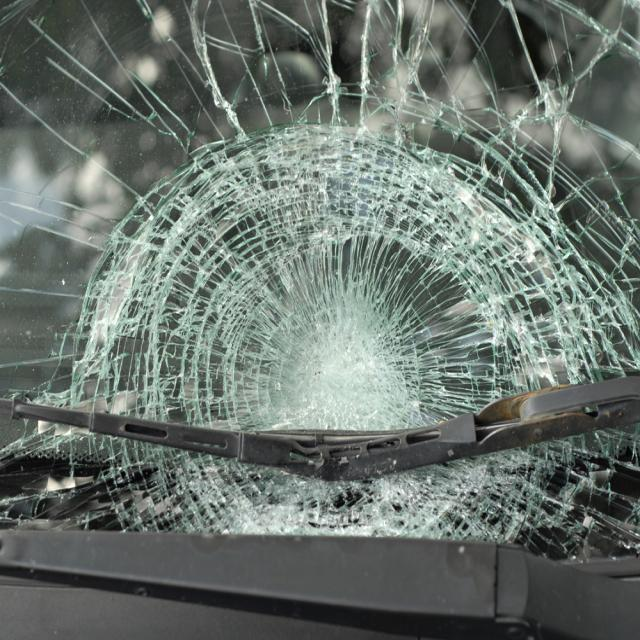glass shatter: (0, 0, 640, 565)
